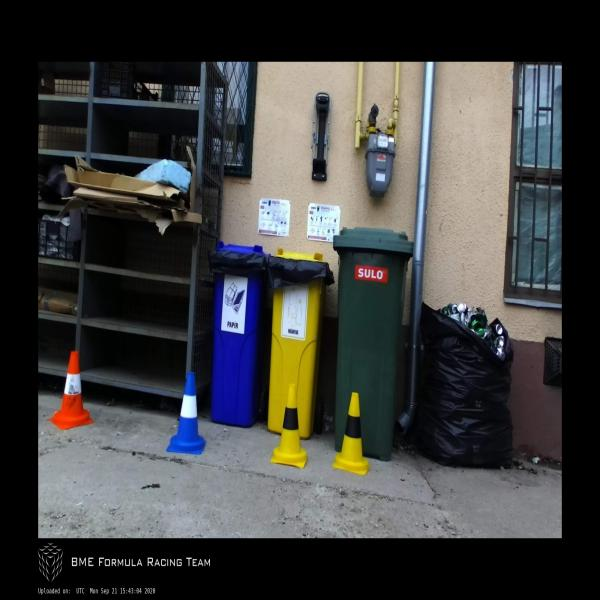blue_cone: (166, 372, 206, 454)
orange_cone: (49, 351, 94, 431)
yellow_cone: (270, 384, 308, 468), (332, 392, 370, 476)
